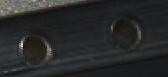joints: (14, 30, 54, 68), (107, 13, 143, 53)
